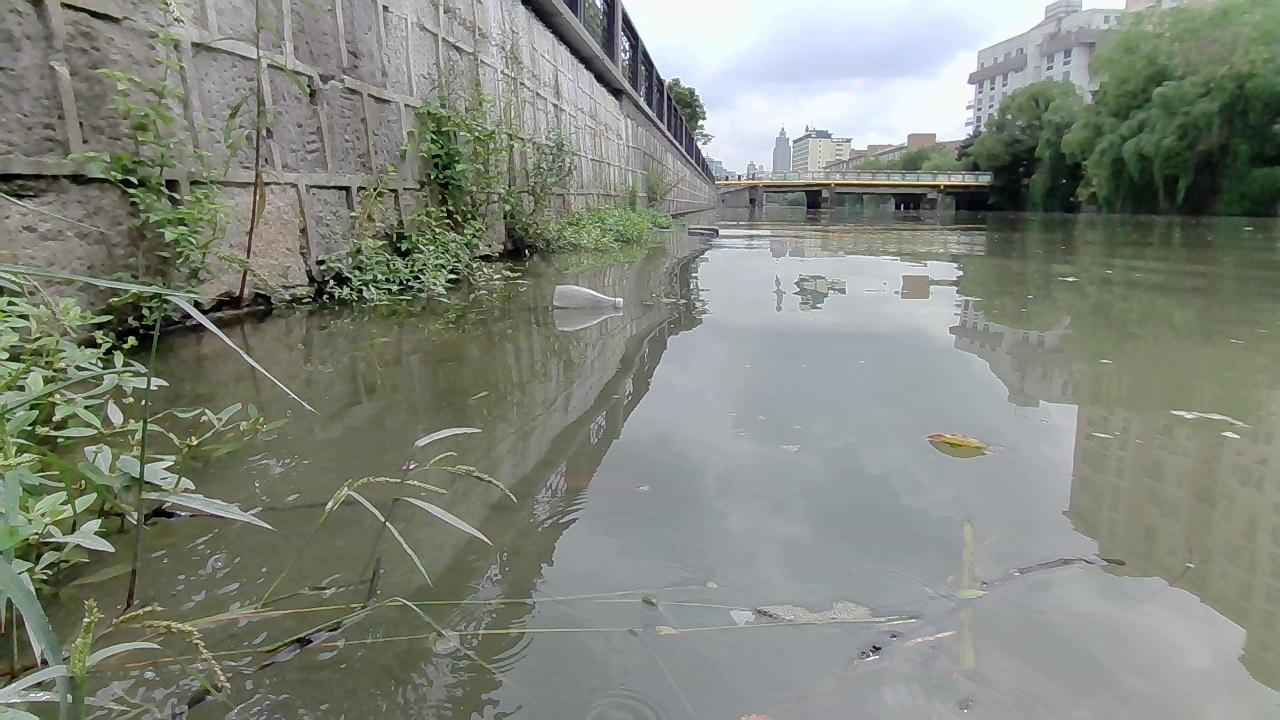bottle: (551, 278, 621, 307)
